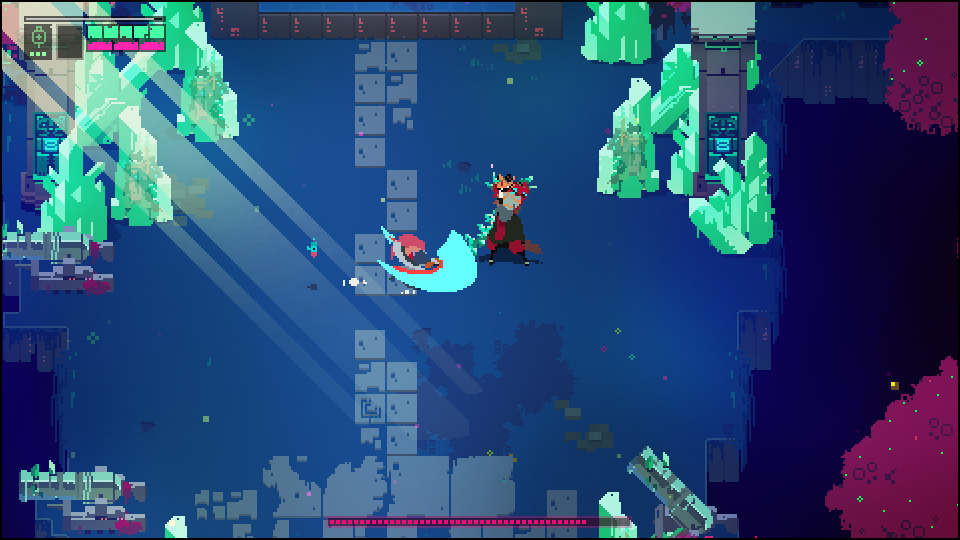hanged_man: (471, 166, 541, 269)
player: (371, 222, 479, 292)
